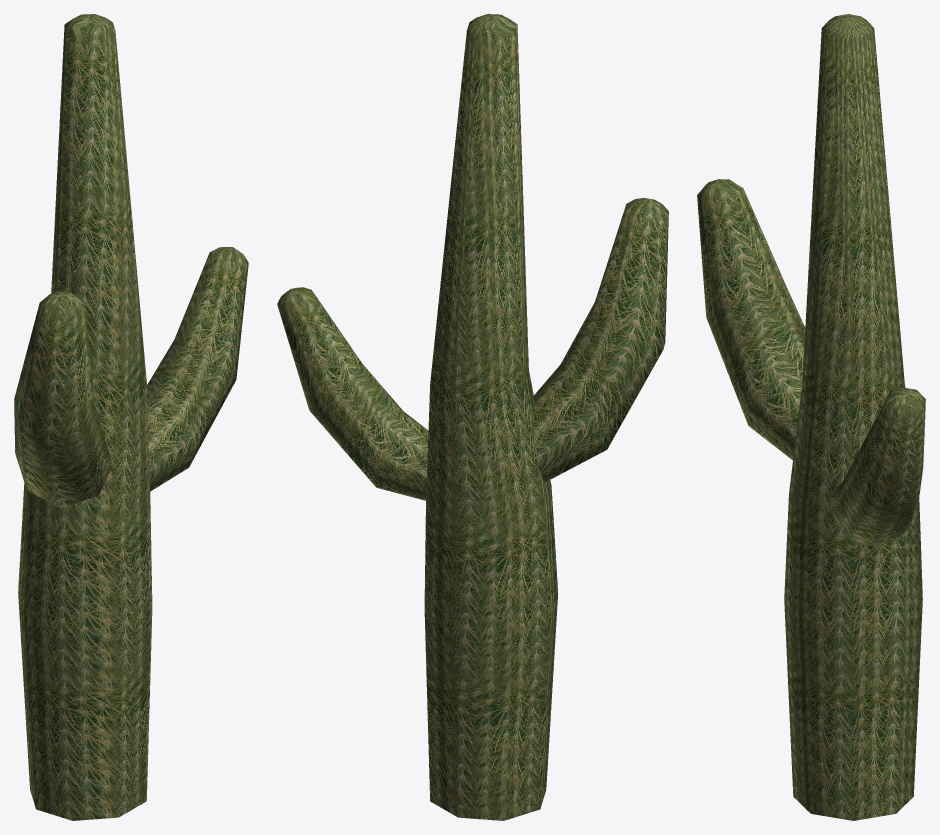
Rendered from furni_0200944.FBX.
3 views of the same model, side by side, from view 1: azimuth 30°, elevation 25°; view 2: azimuth 150°, elevation 25°; view 3: azimuth 270°, elevation 25° (orthographic).
Visible parts, largest first — view 1: furni_0200944; view 2: furni_0200944; view 3: furni_0200944.
Part boxes in pixels (<box>): furni_0200944: <box>14,14,248,820</box>; furni_0200944: <box>277,14,668,820</box>; furni_0200944: <box>697,14,925,820</box>.
Bounding box in the file's own units: 148 × 364 × 96.61.
1 material, 1 textured.
